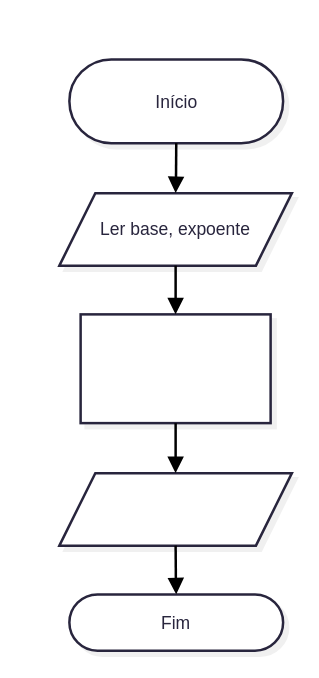
Image size: 319x678. Some labels were removed from this diagram. The centre of each missing label's shape, as x and y in pixels:
potencia = Math.powExact base, expoente: the point at 177,370
Retornar potencia: the point at 178,511
